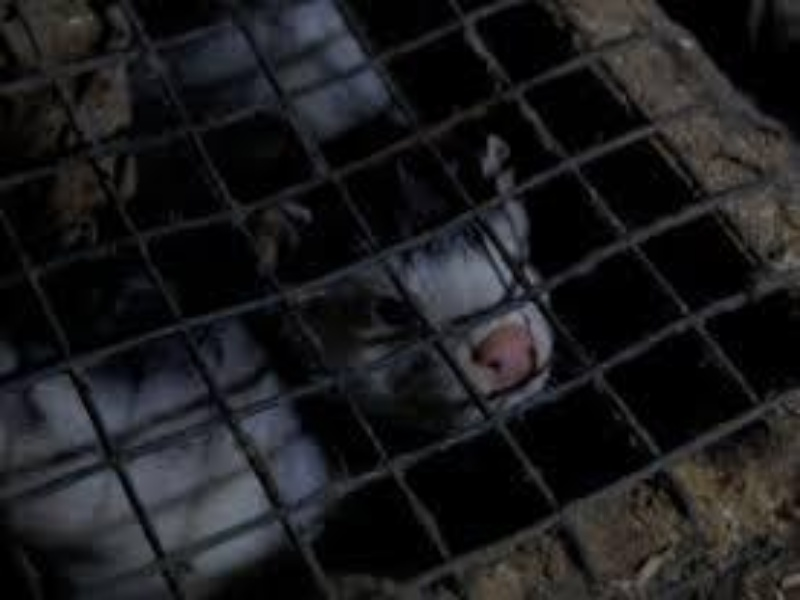minkish: (257, 106, 559, 423)
